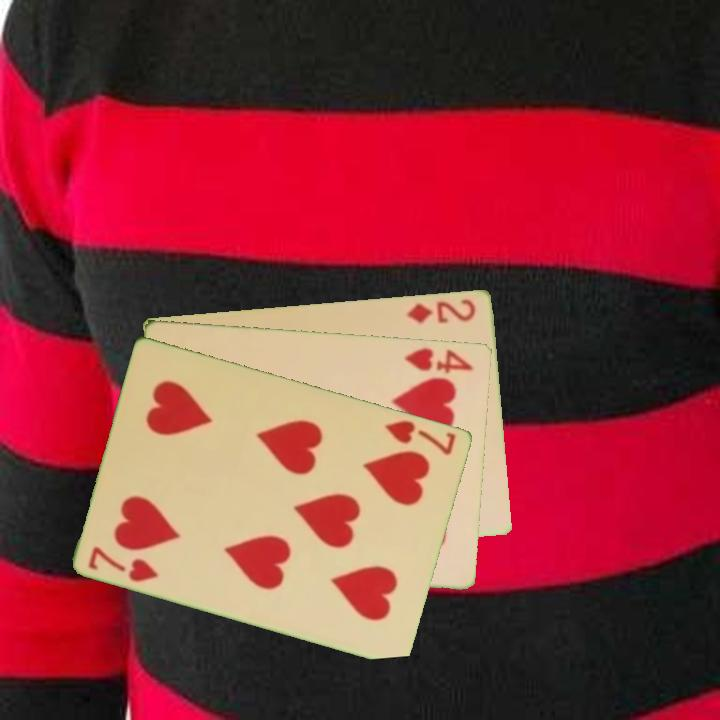2d: (404, 295, 479, 326)
4h: (401, 344, 477, 376)
7h: (381, 416, 459, 458), (85, 543, 162, 585)
